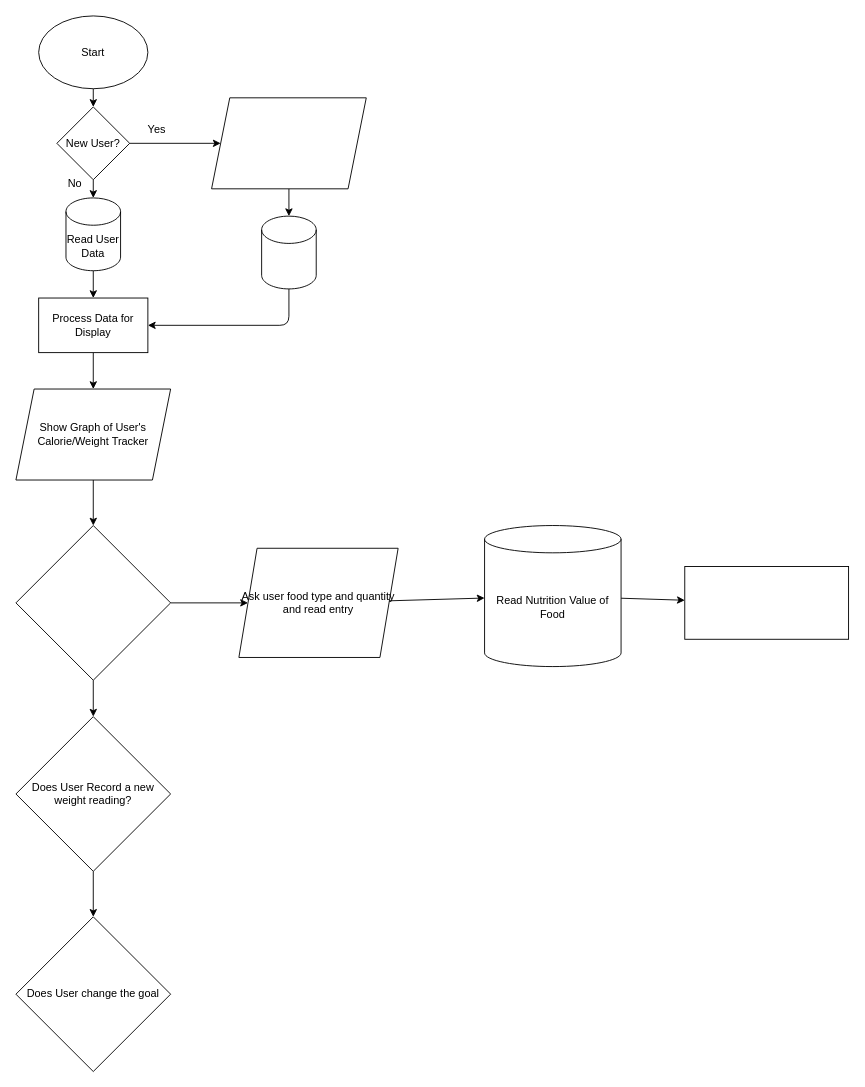
Some shapes in this 865 by 1087 pixel diagram are drawn without their labels. Here are the shapes that lost their labels. From the top down, the centre of each, then its label:
[288,143]: Ask User's goal and data
[288,252]: Store User data and goal
[93,602]: Does user choose to add food item they ate
[766,602]: Calculate calories and nutrition through algorithm
